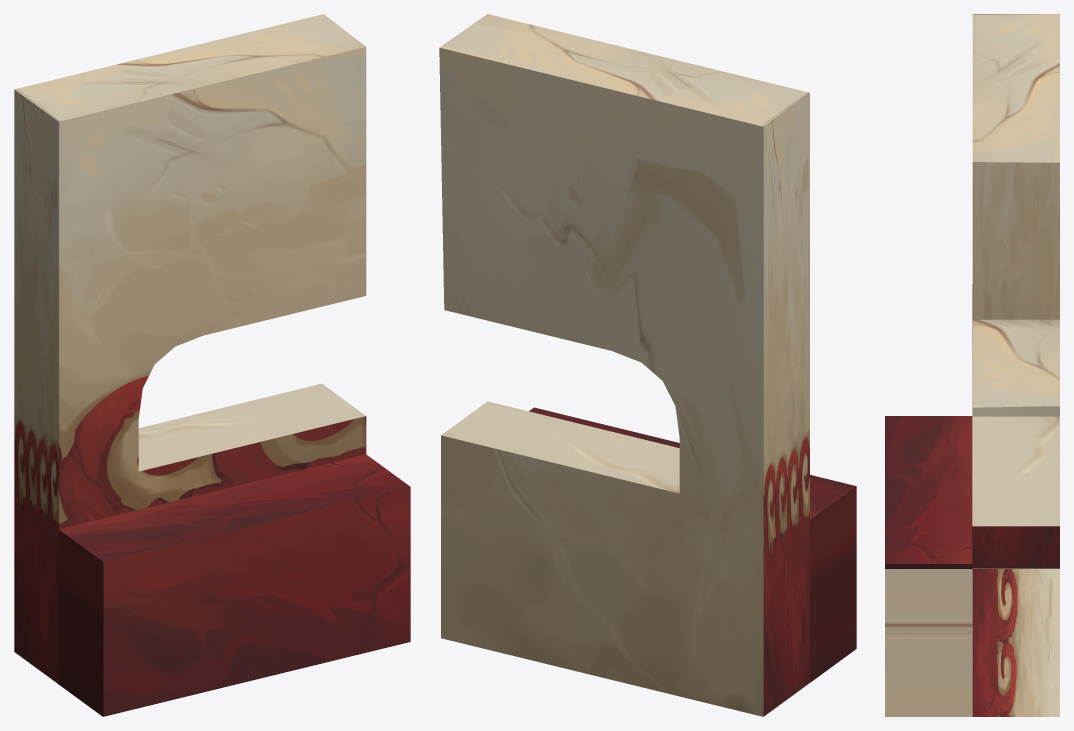
File: fenetre1.fbx
3 renders of one model, left to right at view 1: azimuth 30°, elevation 25°; view 2: azimuth 150°, elevation 25°; view 3: azimuth 270°, elevation 25°, orthographic. The views are drawn at different scales.
Visible parts, largest first — view 1: Box004; view 2: Box004; view 3: Box004.
Part boxes in pixels (x1=…): Box004: x1=14, y1=14, x2=410, y2=716; Box004: x1=439, y1=14, x2=856, y2=716; Box004: x1=885, y1=14, x2=1059, y2=716.
Size of the model in its own units: 1006 by 1750 by 500.
